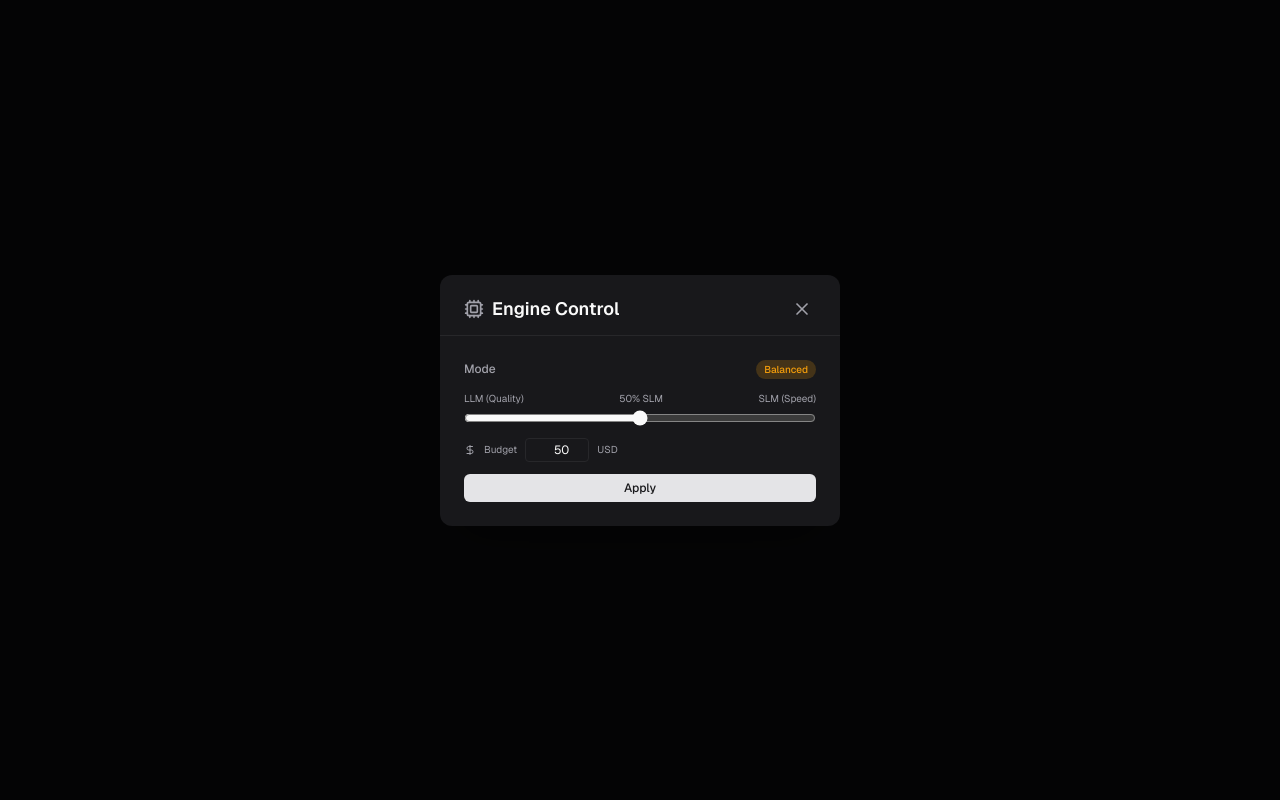
EngineControlPanel › impact display after apply › shows error message on apply failure
The image size is (1280, 800).
Step 1. Click the button "Apply" → (640, 488), box [464,474,816,502]
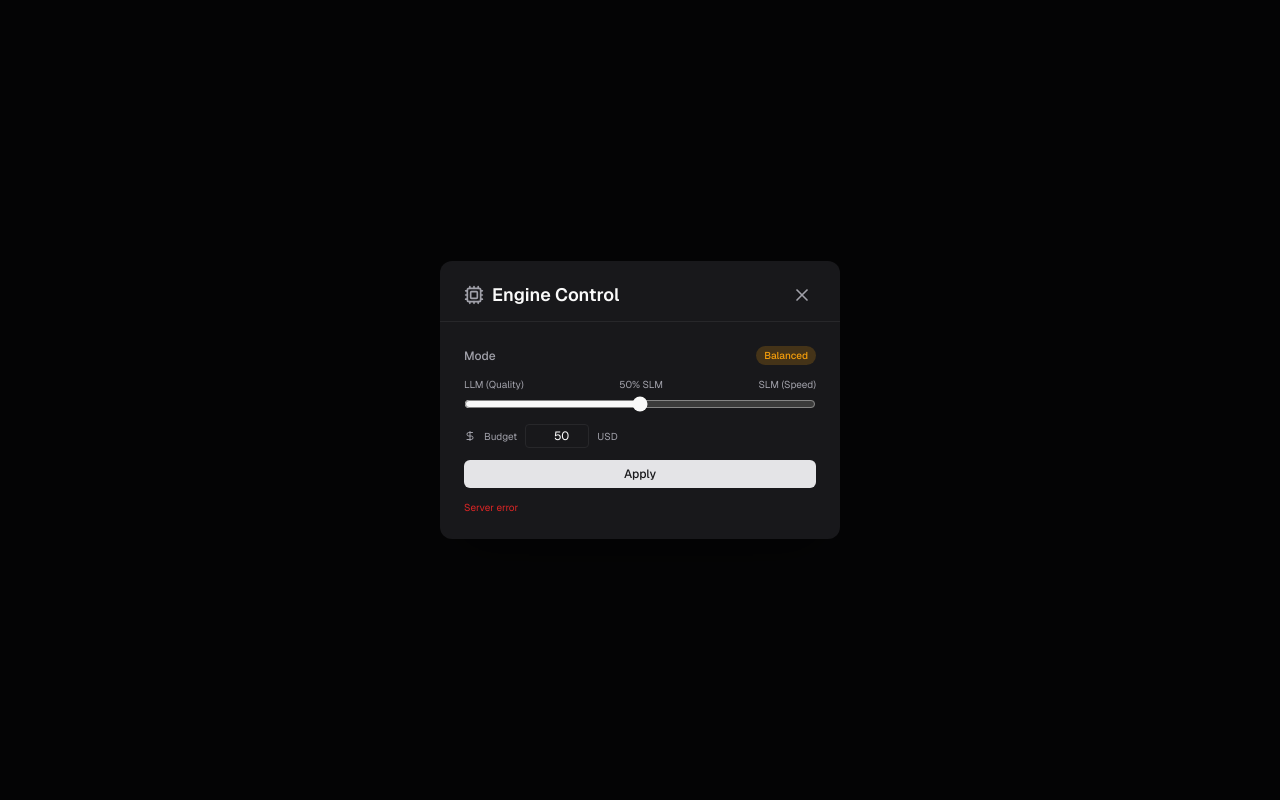
Expected: the text "Server error" is shown, [464,501,518,514]
